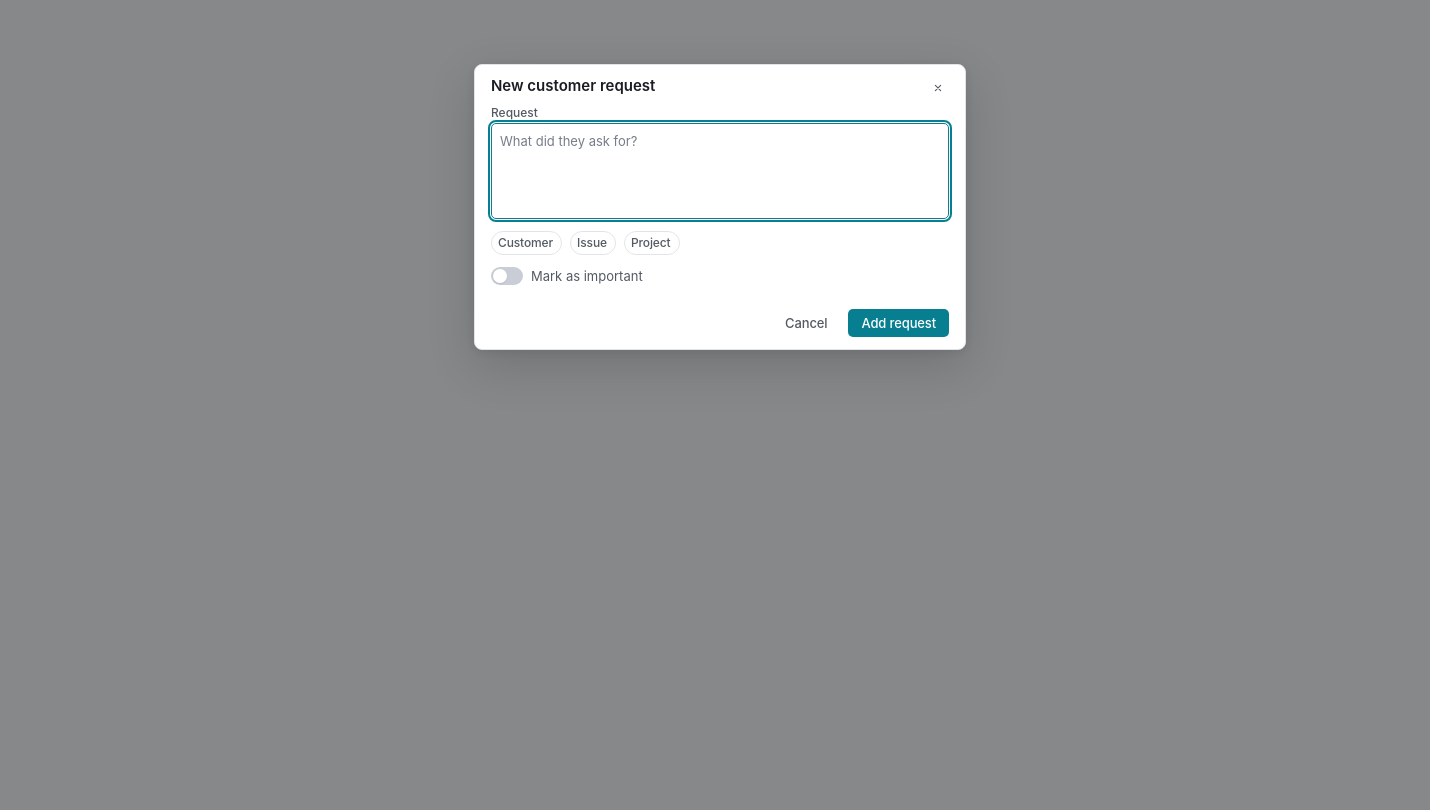
CreateCustomerRequestModal discard guard › keeps the dialog, and what was written in it, on keep editing
Type "SSO with Okta please." into the text box labelled "Request".
click(720, 171); type("SSO with Okta please.")  # box [491, 123, 949, 219]
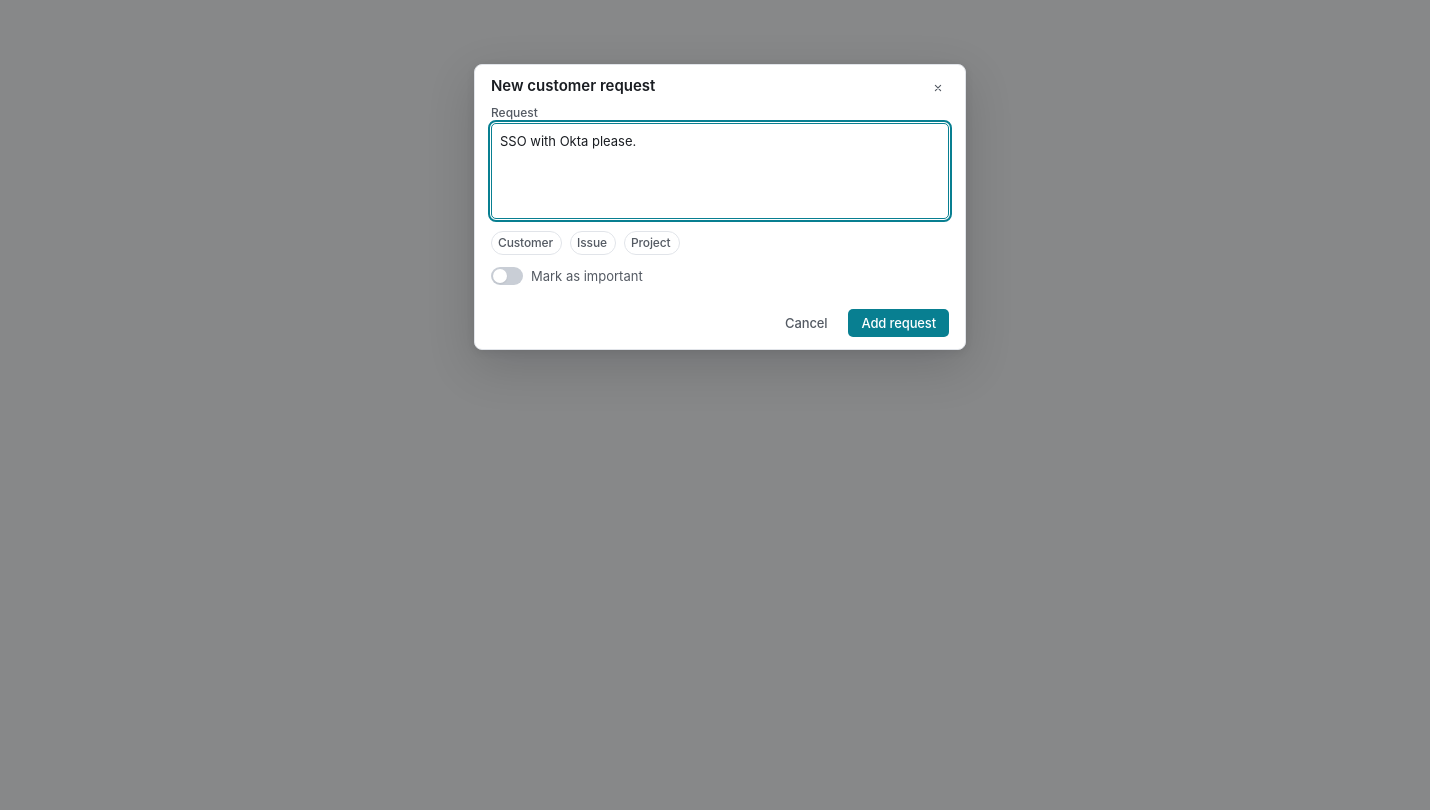
Press Escape
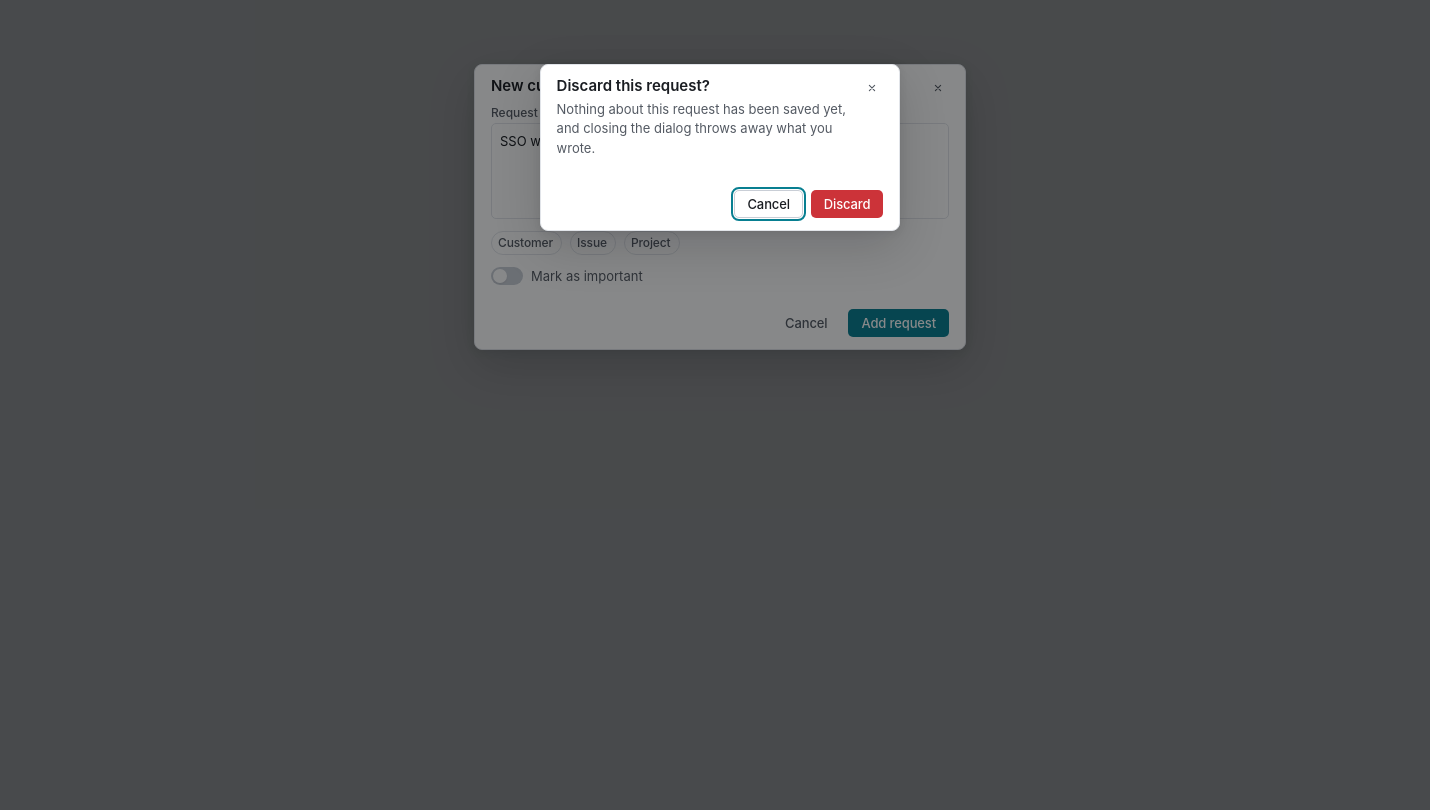
Click the button "Cancel".
click(769, 204)  # box [734, 190, 803, 218]
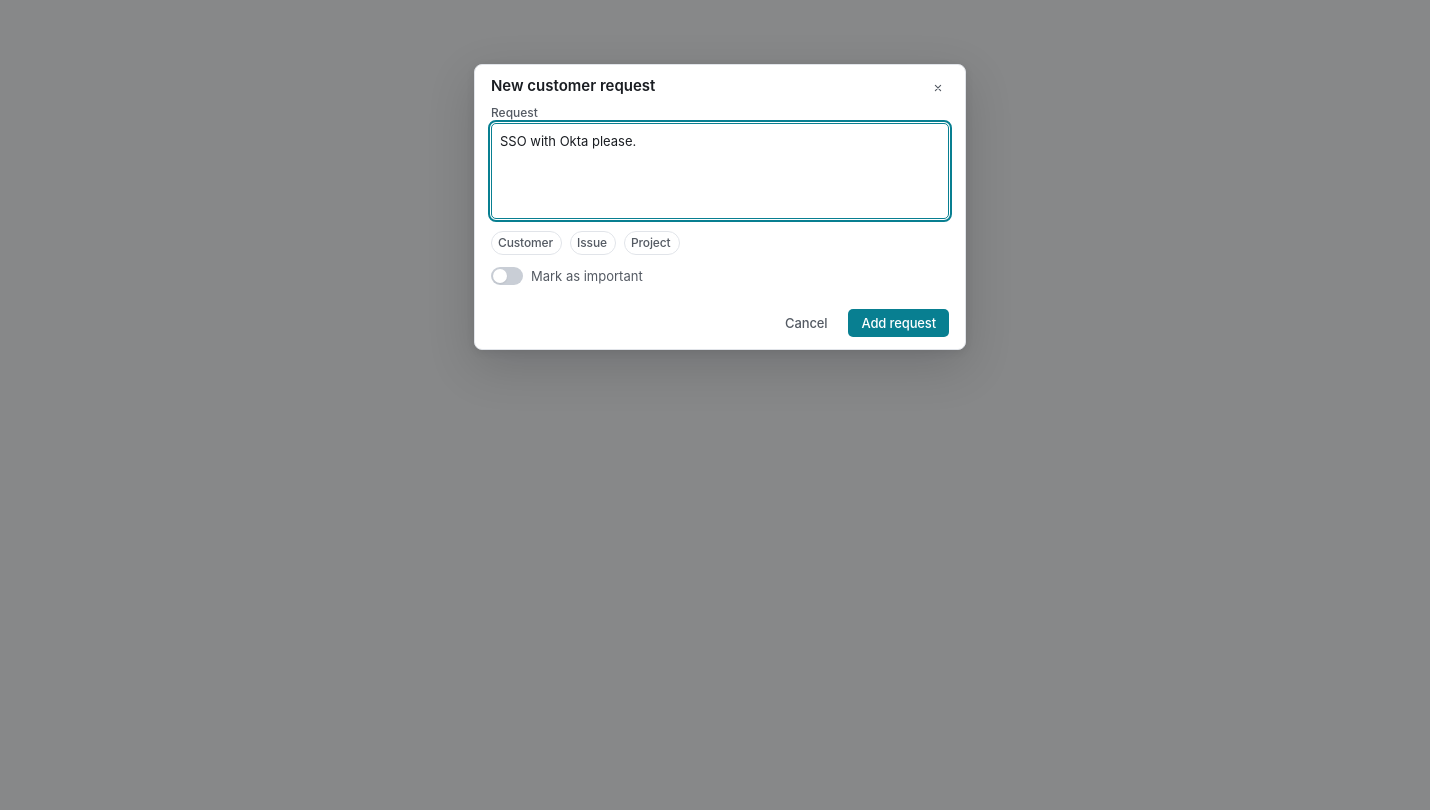
Expected: the heading "Discard this request?" is gone
